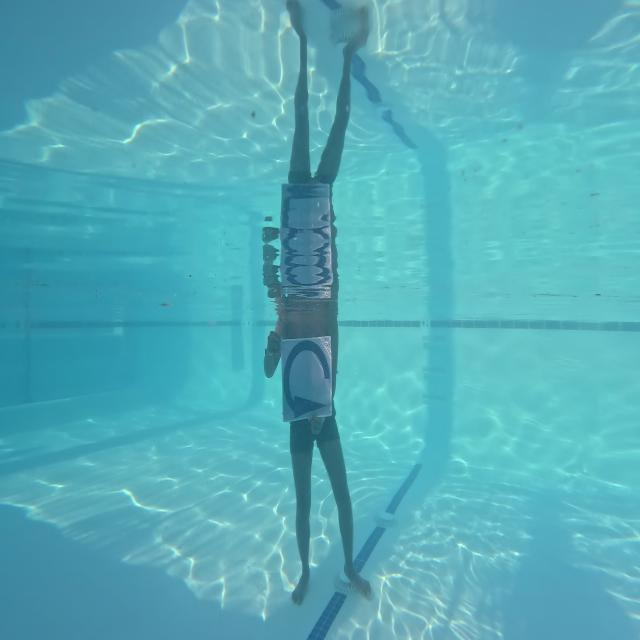blue_side: (283, 336, 333, 424)
